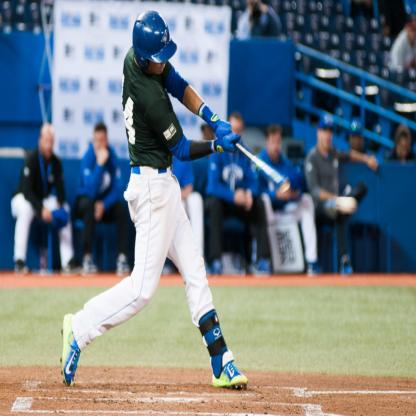Helmet: (130, 12, 174, 66), (347, 122, 369, 159)
